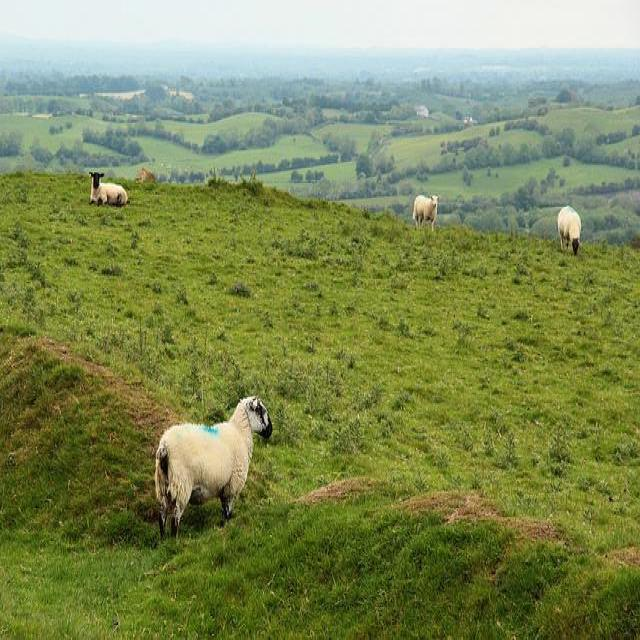Sheep: (155, 396, 274, 542)
